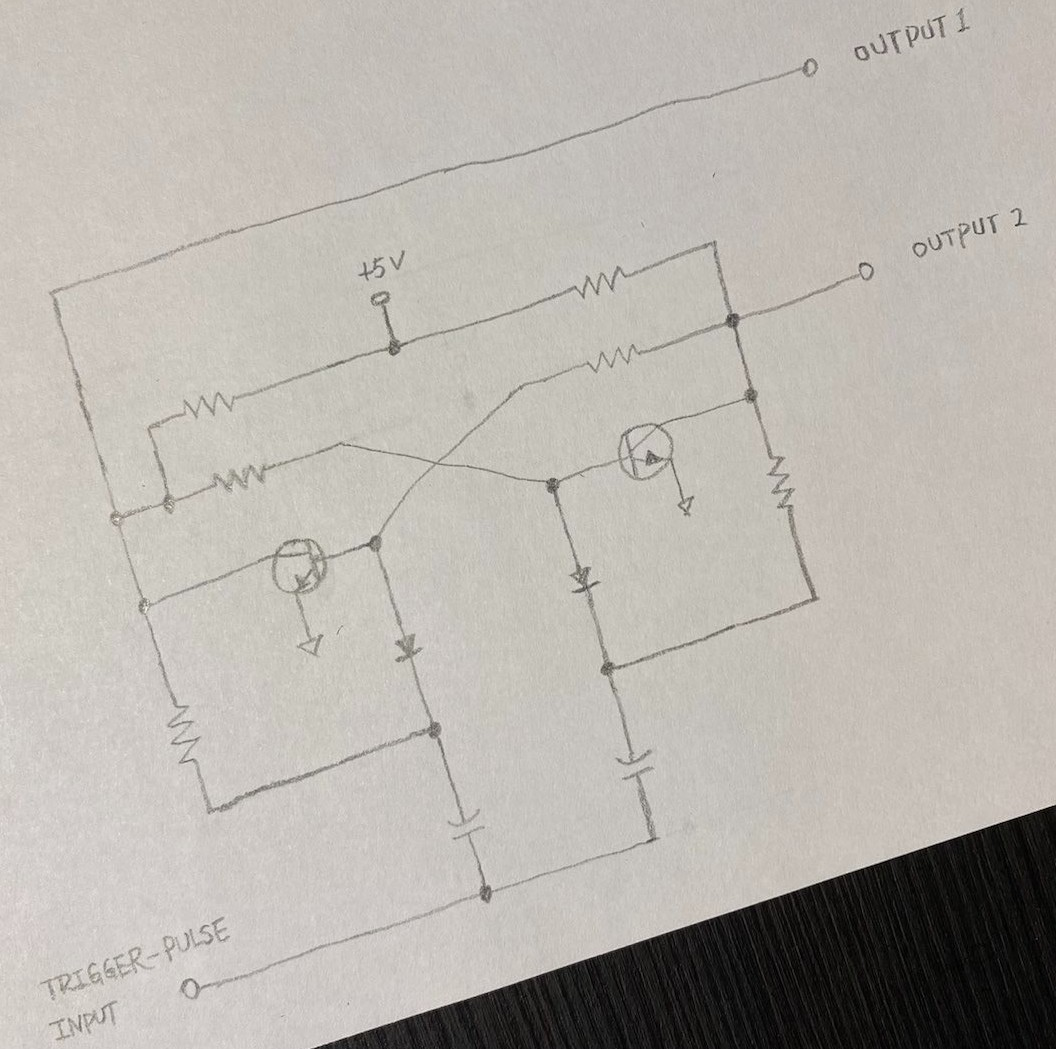capacitor.unpolarized: (608, 748, 667, 786), (441, 807, 498, 844)
diode: (388, 628, 432, 667), (564, 562, 608, 598)
gnd: (291, 630, 331, 663), (669, 491, 702, 525)
junction: (715, 302, 752, 338), (637, 823, 673, 857), (738, 378, 771, 415), (418, 712, 451, 748), (128, 585, 158, 624), (153, 487, 188, 520), (359, 527, 392, 560), (801, 579, 830, 616), (194, 795, 226, 826), (471, 880, 506, 908), (594, 649, 621, 685), (378, 330, 407, 359), (104, 503, 135, 530), (42, 276, 67, 309), (540, 470, 568, 499), (508, 374, 539, 400), (422, 449, 448, 480), (326, 431, 351, 455), (703, 230, 726, 256), (141, 414, 158, 438)
resistor: (162, 701, 207, 766), (765, 451, 799, 515), (563, 266, 628, 297), (206, 464, 271, 493), (581, 344, 643, 374), (175, 392, 239, 419)
terminal: (364, 289, 402, 321), (174, 972, 204, 1005), (854, 257, 881, 285), (796, 53, 822, 82)
text: (40, 914, 233, 1001), (907, 204, 1031, 260), (848, 7, 972, 62), (44, 1000, 124, 1044), (354, 248, 409, 281)
transistor: (610, 419, 679, 483), (267, 532, 331, 599)
